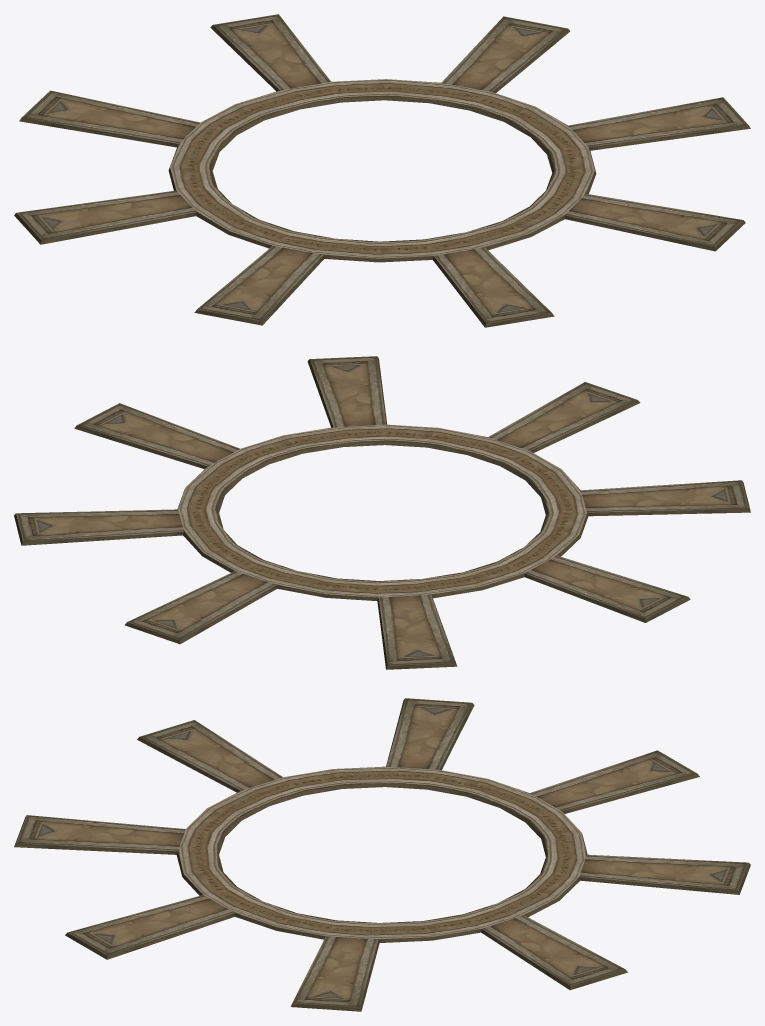
File: TelNumara_Monumentfloora.FBX
3 renders of one model, top to bottom at view 1: azimuth 30°, elevation 25°; view 2: azimuth 150°, elevation 25°; view 3: azimuth 270°, elevation 25°, orthographic. The views are drawn at different scales.
Visible parts, largest first — view 1: TelNumara_Monumentfloora; view 2: TelNumara_Monumentfloora; view 3: TelNumara_Monumentfloora.
Boxes of the visible parts, x1=… form: TelNumara_Monumentfloora: x1=14, y1=14, x2=750, y2=327; TelNumara_Monumentfloora: x1=14, y1=356, x2=750, y2=669; TelNumara_Monumentfloora: x1=14, y1=698, x2=750, y2=1011.
Bounding box in the file's own units: 1504 × 6.95 × 1504.
Materials: 1 (1 with a texture image).
